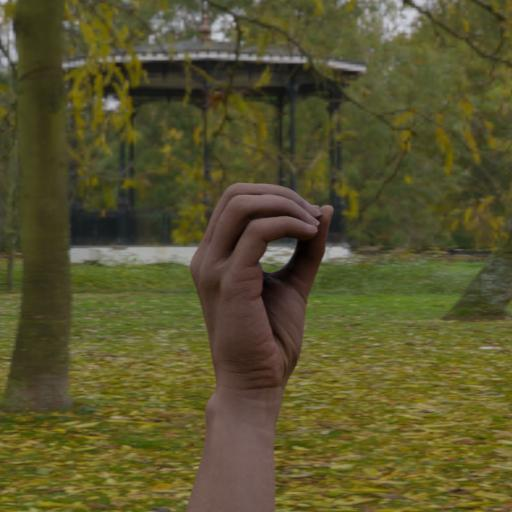O: (176, 171, 354, 512)
